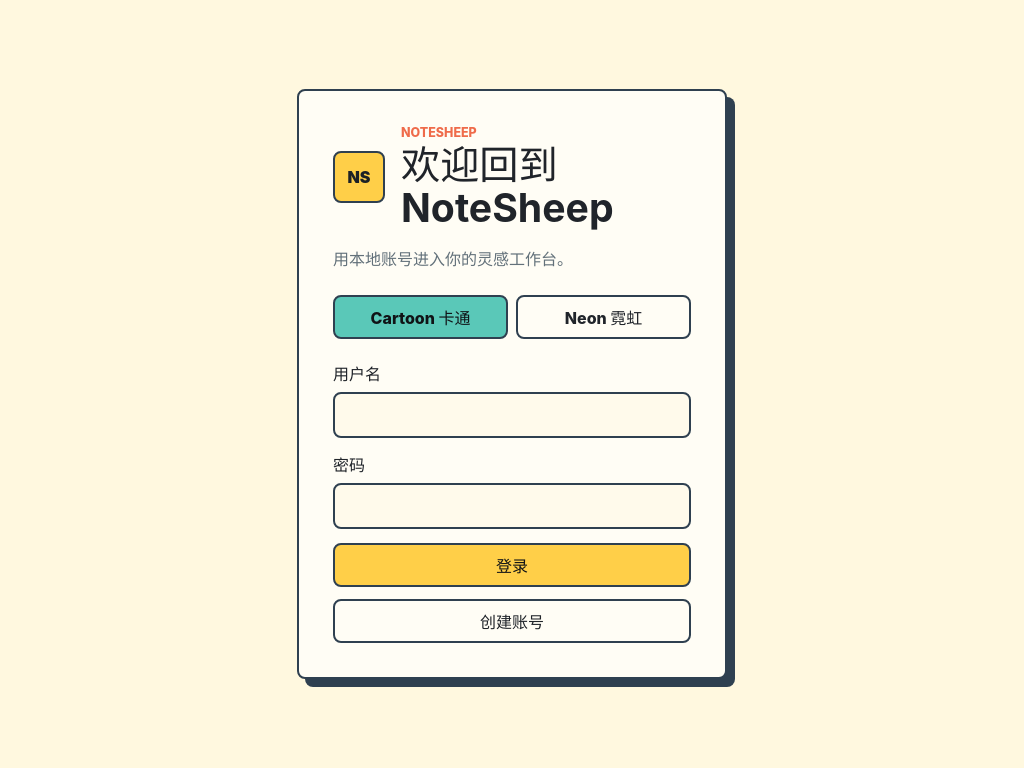
Voice recorder › lets the user cancel a pending microphone permission request
Step 1. Type "note-taker" into the field labelled "用户名" → (512, 415), box [333, 392, 691, 438]
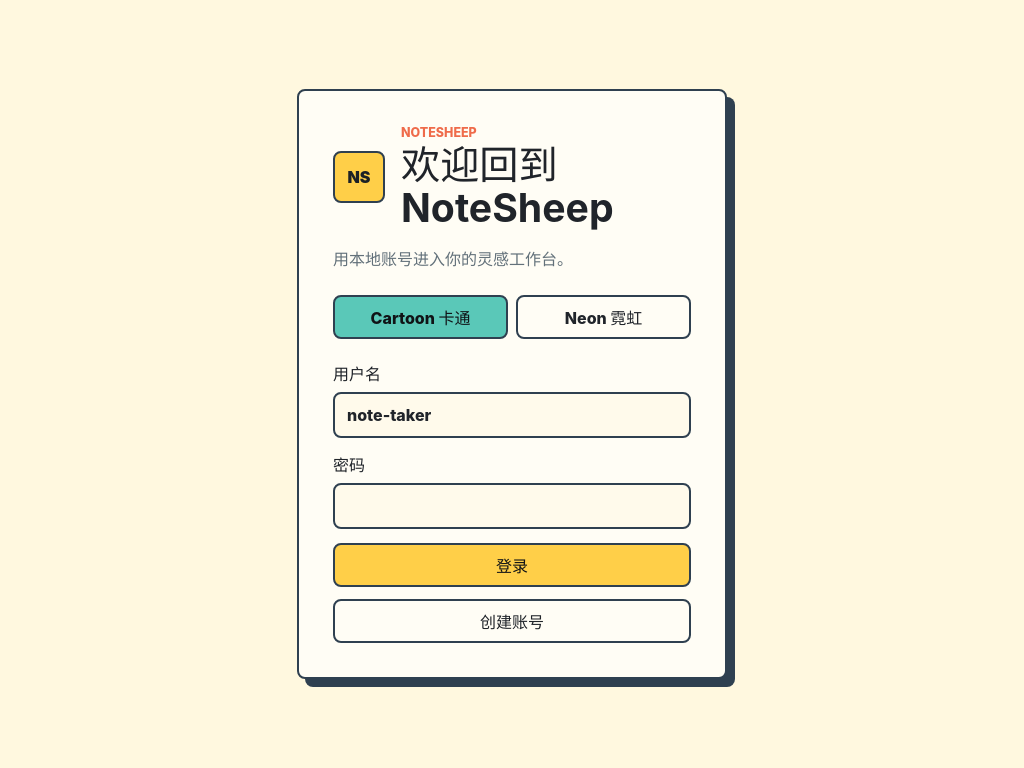
Step 2. Type "secret1" into the password field labelled "密码" → (512, 506), box [333, 483, 691, 529]
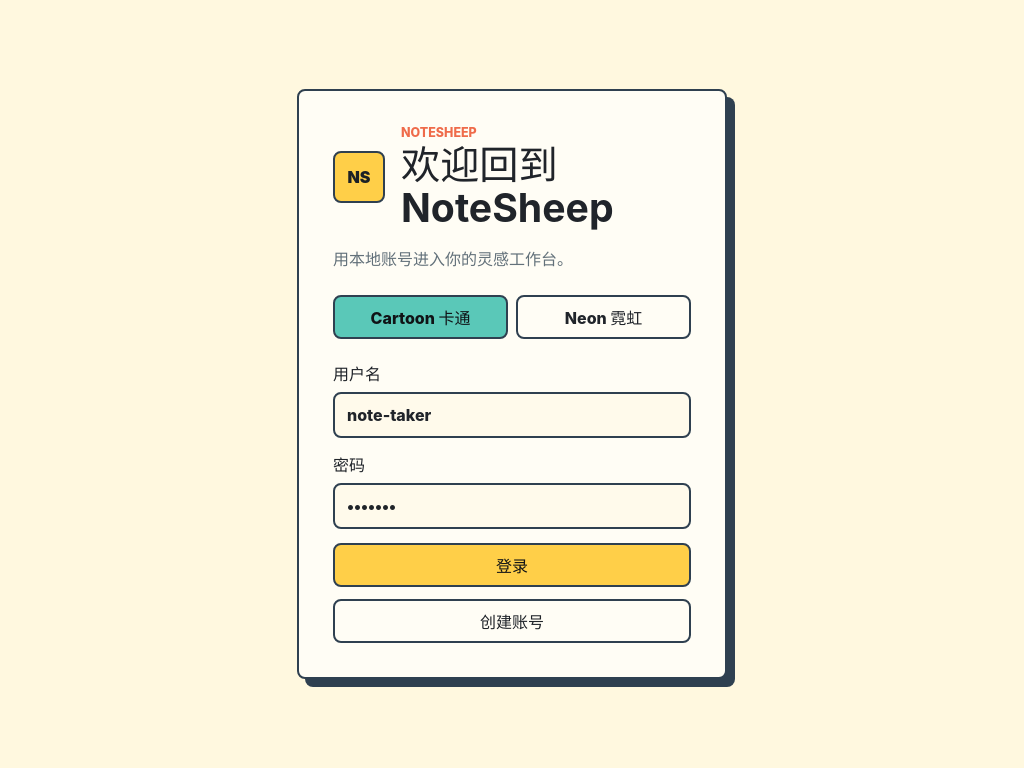
Step 3. Click the button "登录" → click(512, 565), box [333, 543, 691, 587]
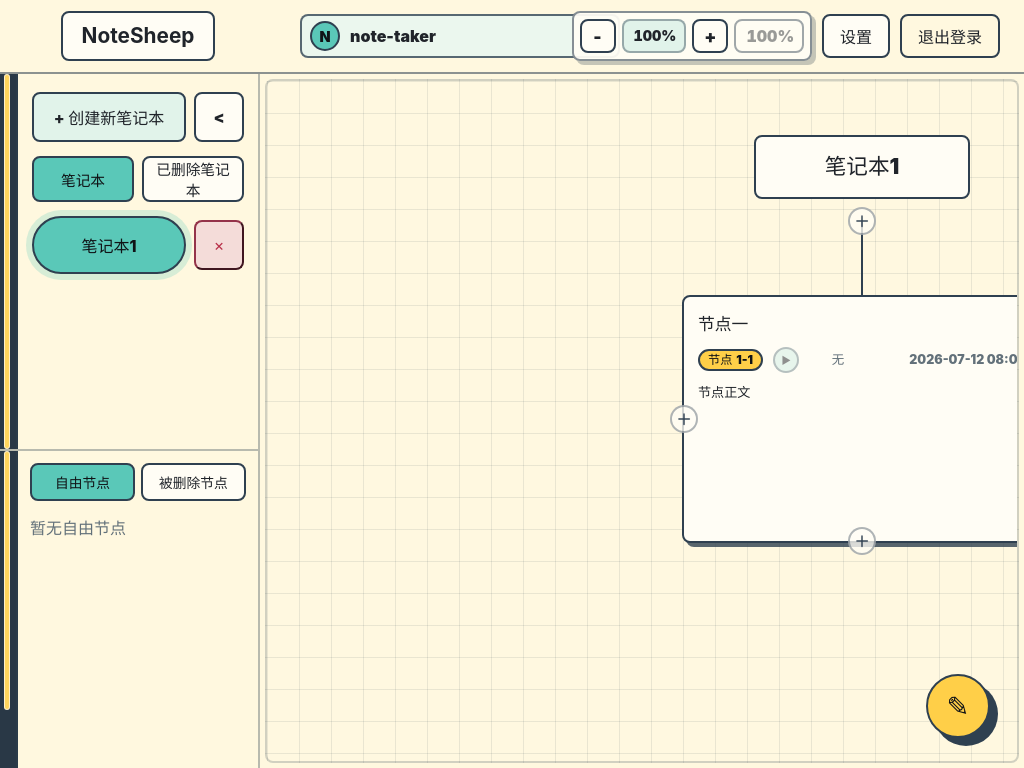
Expected: the button named "给 节点一 添加子节点" is shown
Step 4. Click the button named "给 节点一 添加子节点" → click(862, 541), box [848, 527, 876, 555]
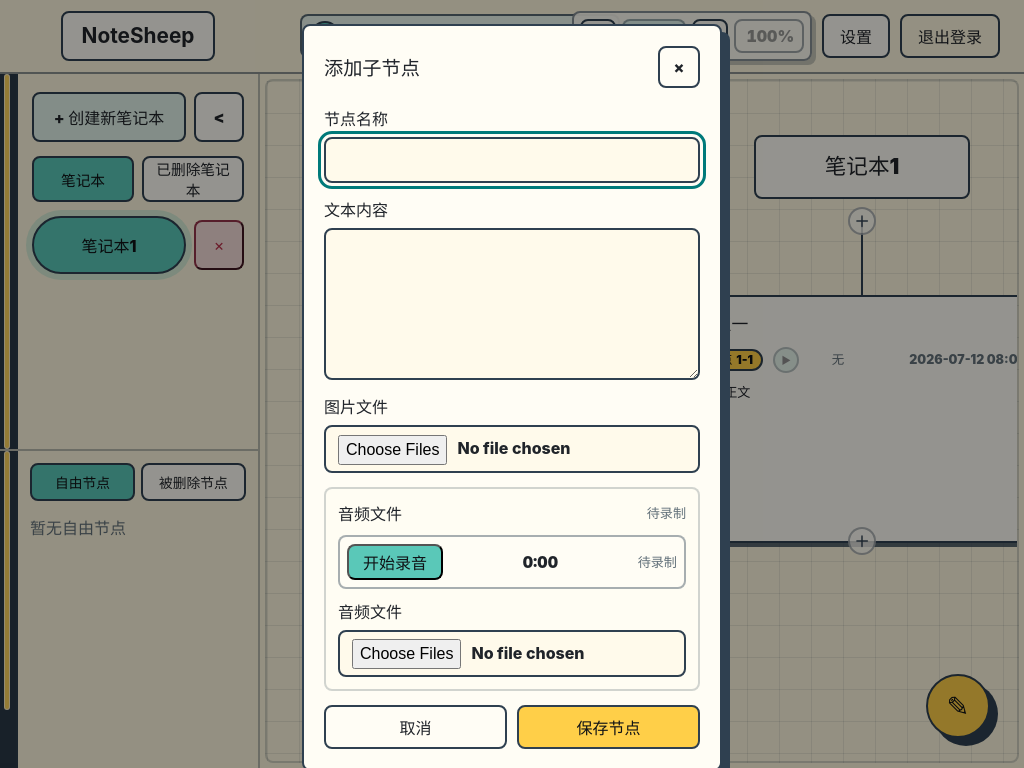
Step 5. Click the button "开始录音" → click(395, 562), box [347, 544, 443, 580]
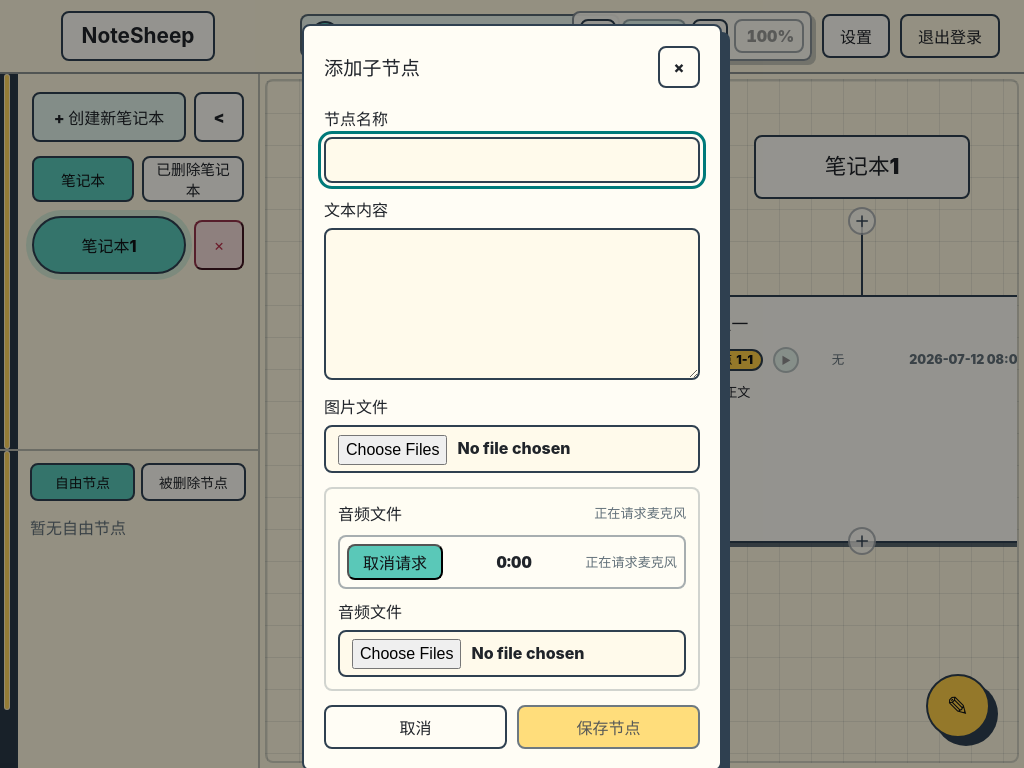
Expected: the button "取消请求" is enabled
Expected: the button "保存节点" is disabled, [517, 705, 700, 749]
Step 6. Click the button "取消请求" → click(395, 562), box [347, 544, 443, 580]
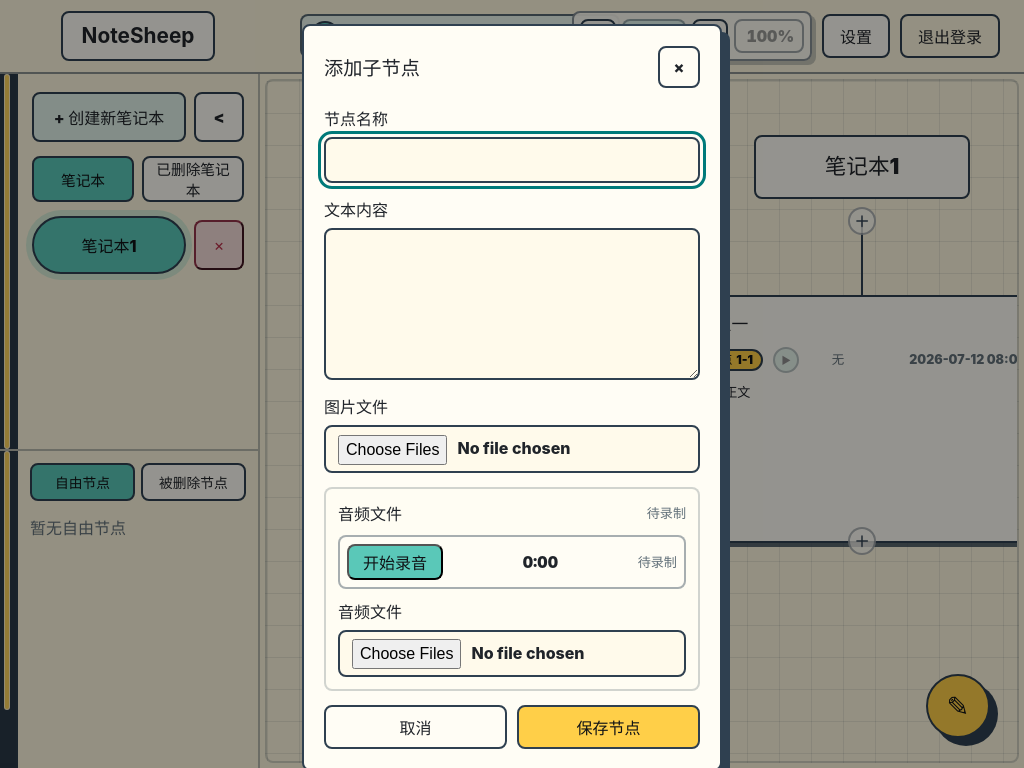
Expected: the button "开始录音" is enabled, [347, 544, 443, 580]
Expected: the button "保存节点" is enabled, [517, 705, 700, 749]
